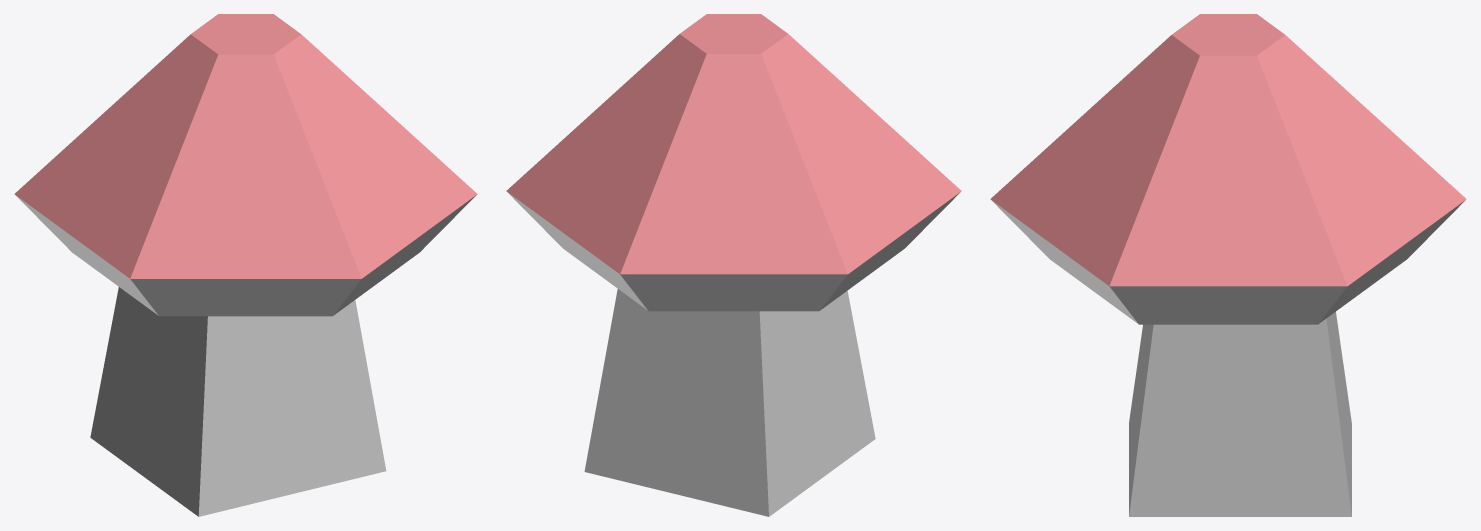
Rendered from mushroom_red.glb.
3 views of the same model, side by side, from view 1: azimuth 30°, elevation 25°; view 2: azimuth 150°, elevation 25°; view 3: azimuth 270°, elevation 25° (orthographic). The views are drawn at different scales.
Visible parts, largest first — view 1: mushroom_red; view 2: mushroom_red; view 3: mushroom_red.
Boxes of the visible parts, x1,y1,x2,y2 form: mushroom_red: (14,14,477,516); mushroom_red: (506,14,961,516); mushroom_red: (990,14,1466,516).
Bounding box in the file's own units: 0.174 × 0.2028 × 0.2009.
